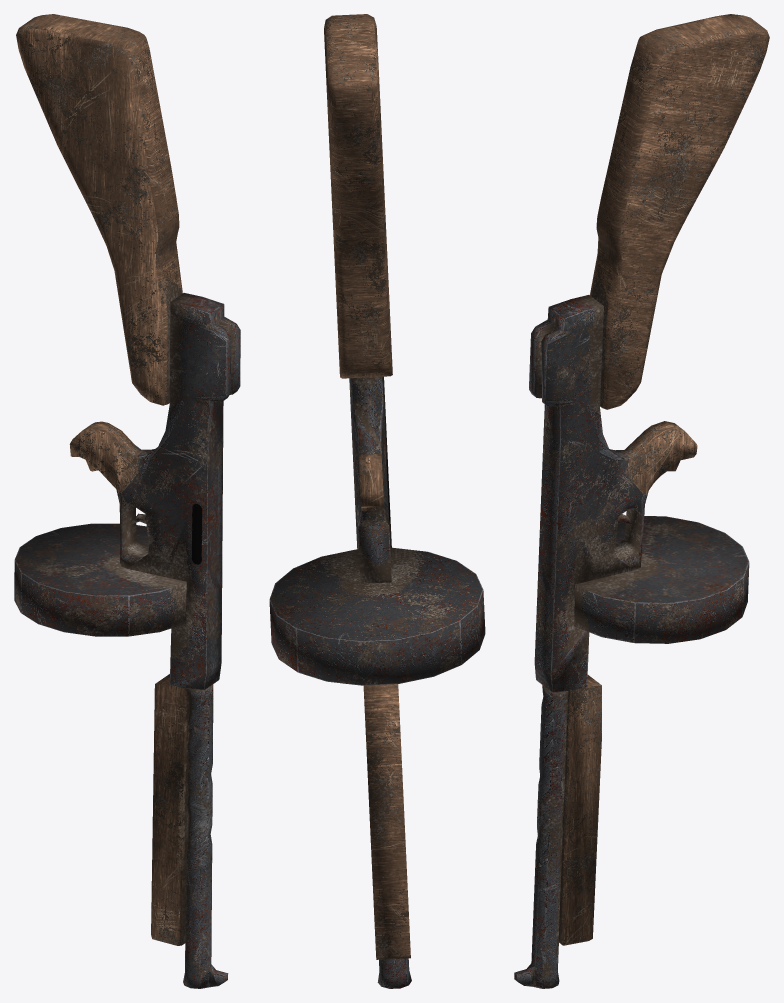
The model's file is Anim_idle_ametralladora_objetos.0015.obj.
The picture shows the model from 3 angles, left to right: view 1: azimuth 30°, elevation 25°; view 2: azimuth 150°, elevation 25°; view 3: azimuth 270°, elevation 25°; orthographic projection. The views are drawn at different scales.
Parts seen in each view (by area): view 1: Ametralladora1; view 2: Ametralladora1; view 3: Ametralladora1.
Part boxes in pixels (<box>): Ametralladora1: <box>14,14,240,988</box>; Ametralladora1: <box>269,14,485,988</box>; Ametralladora1: <box>514,14,769,988</box>.
Size of the model in its own units: 1.14 by 6 by 1.48.
